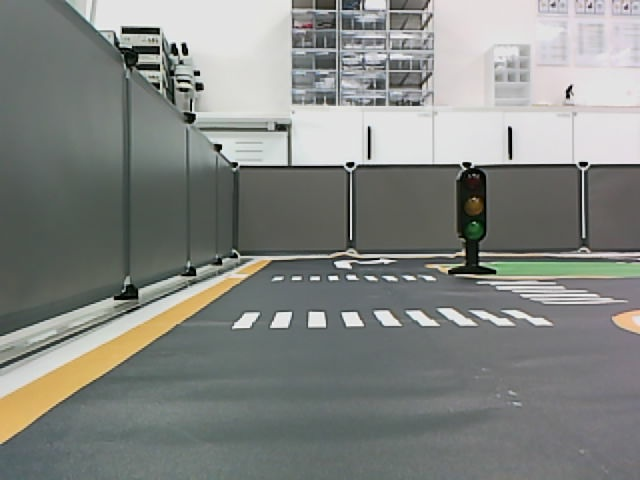crosswalk: (227, 307, 558, 329), (271, 272, 439, 282)
